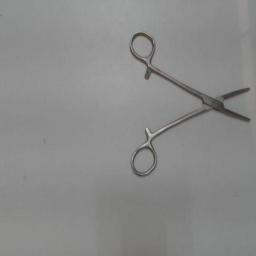Mayo Needle Holder: (126, 26, 254, 180)
